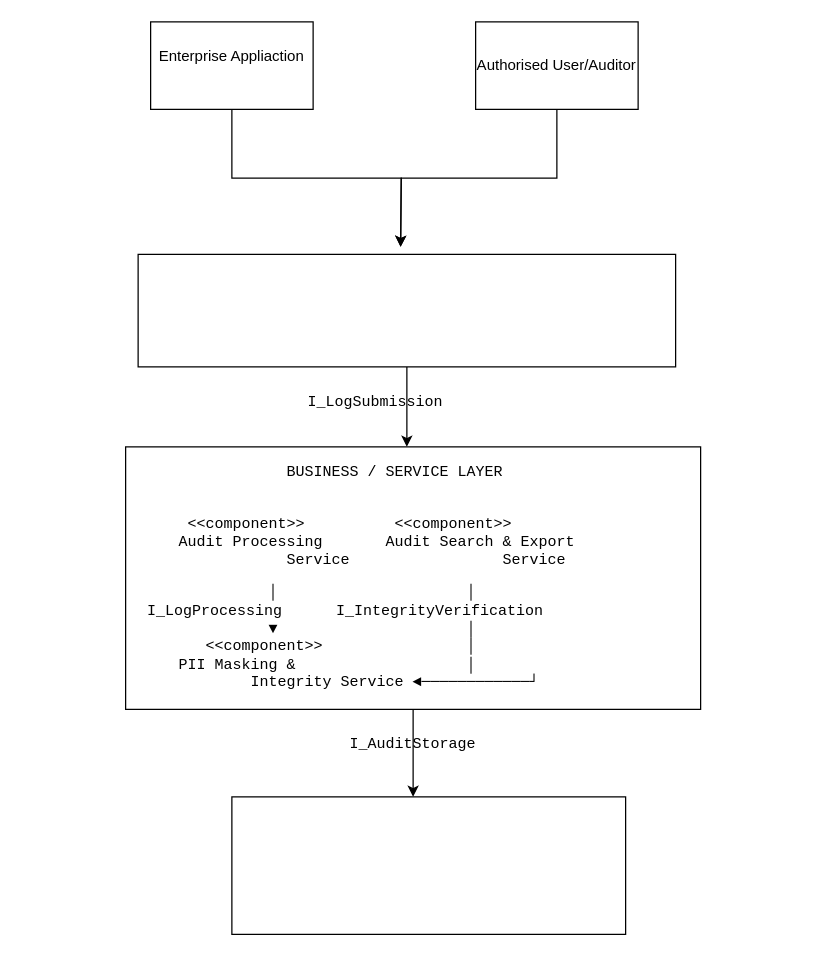
Image size: 826x956. Some labels were removed from this diagram. Here are the shapes that lost their labels. From the top down, the centre of each, then its label:
the point at 406,310: PRESENTATION LAYER <<component>> Audit Log Interface
the point at 428,865: DATA LAYER <<component>> Audit Repository
